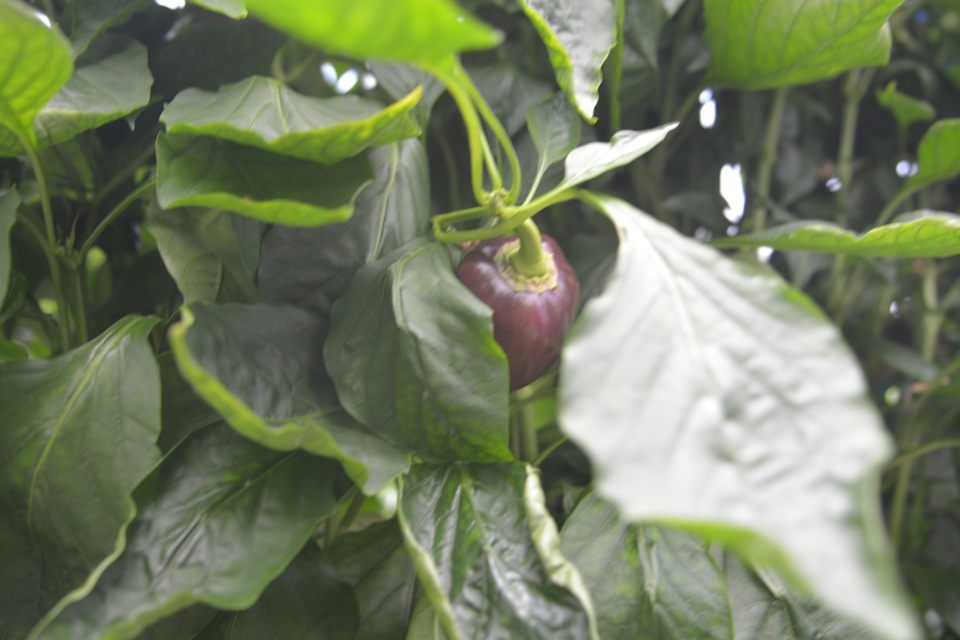fruit: (452, 231, 584, 394)
pedicle: (492, 237, 561, 292)
